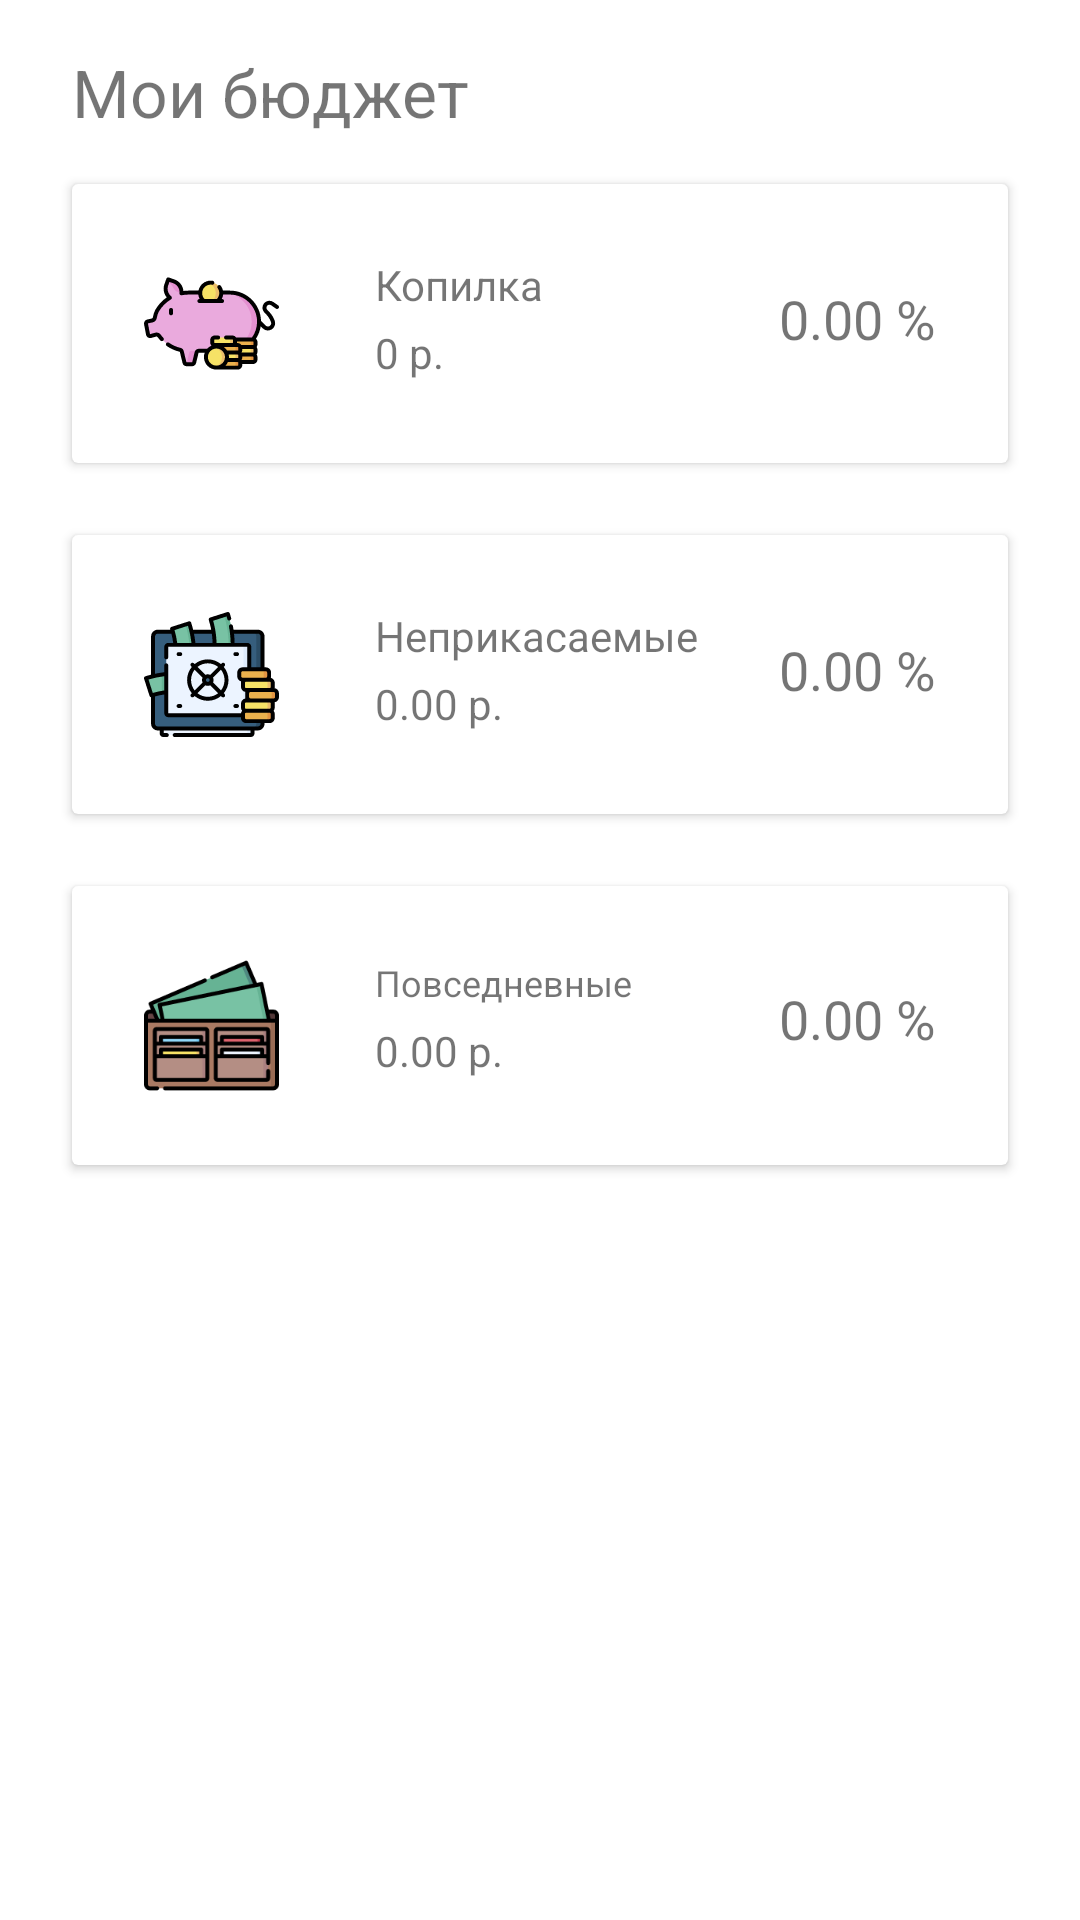

Point at icon controls on the screen. Image size 1080 x 1920, points as point (x, y).
piggy bank: point (211, 323)
safe box: point (211, 674)
wallet: point (211, 1025)
